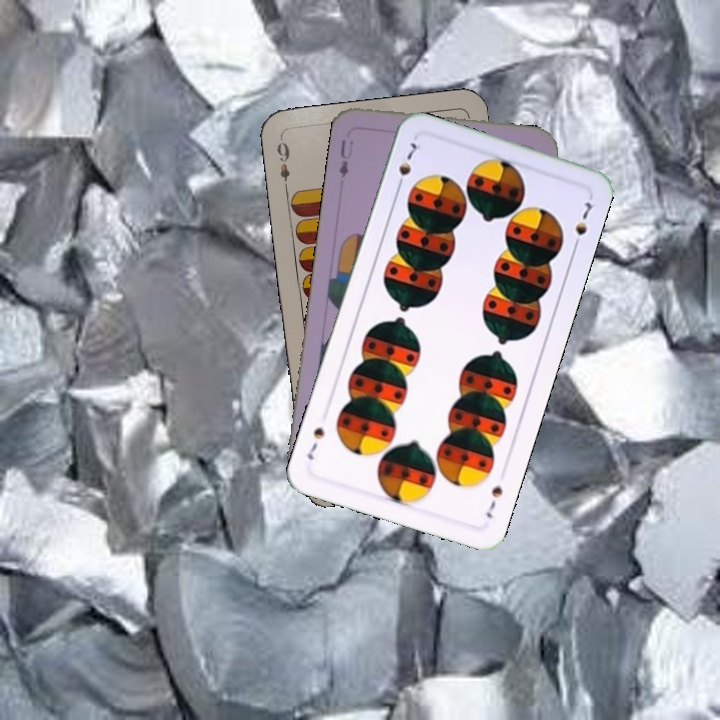E9: (273, 134, 293, 193)
EU: (335, 135, 356, 181)
S7: (392, 138, 422, 193), (482, 482, 505, 521)
